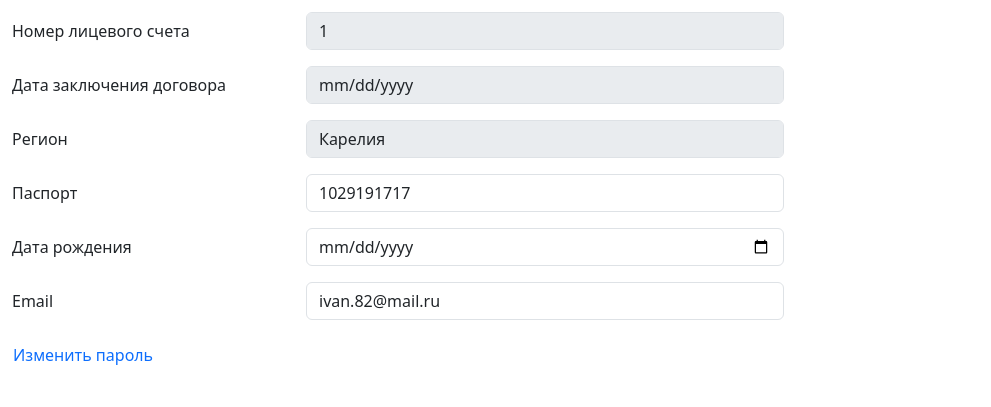
UserForm input forms › returns message about invalid passport length (length < 10)
The image size is (991, 407).
Type "1029191" into the field with test id "input-passport". click: [545, 193]
box: [306,174,784,212]
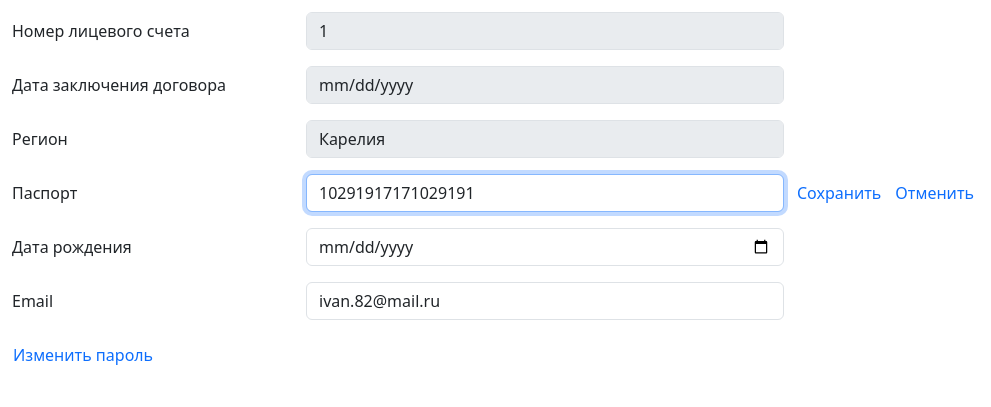
Click the button with test id "submit-passport". click: [839, 193]
box: [796,174,882,212]
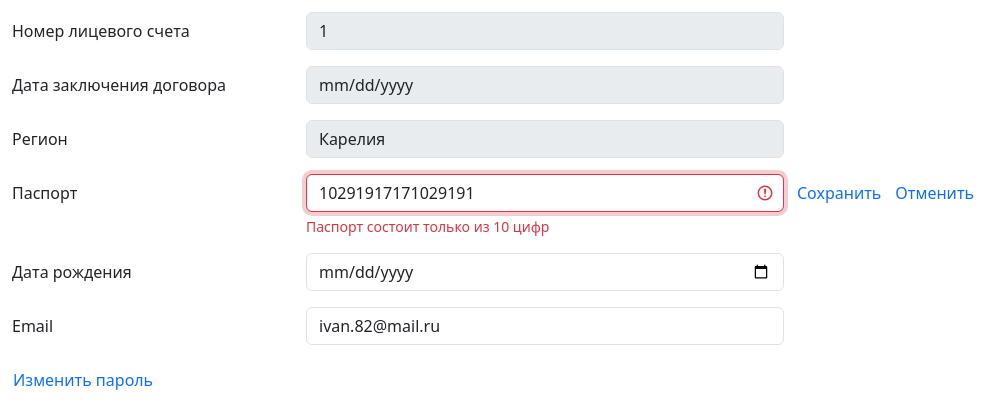
Result: the text "Паспорт состоит только из 10 цифр" is shown at [306,217,549,236]
